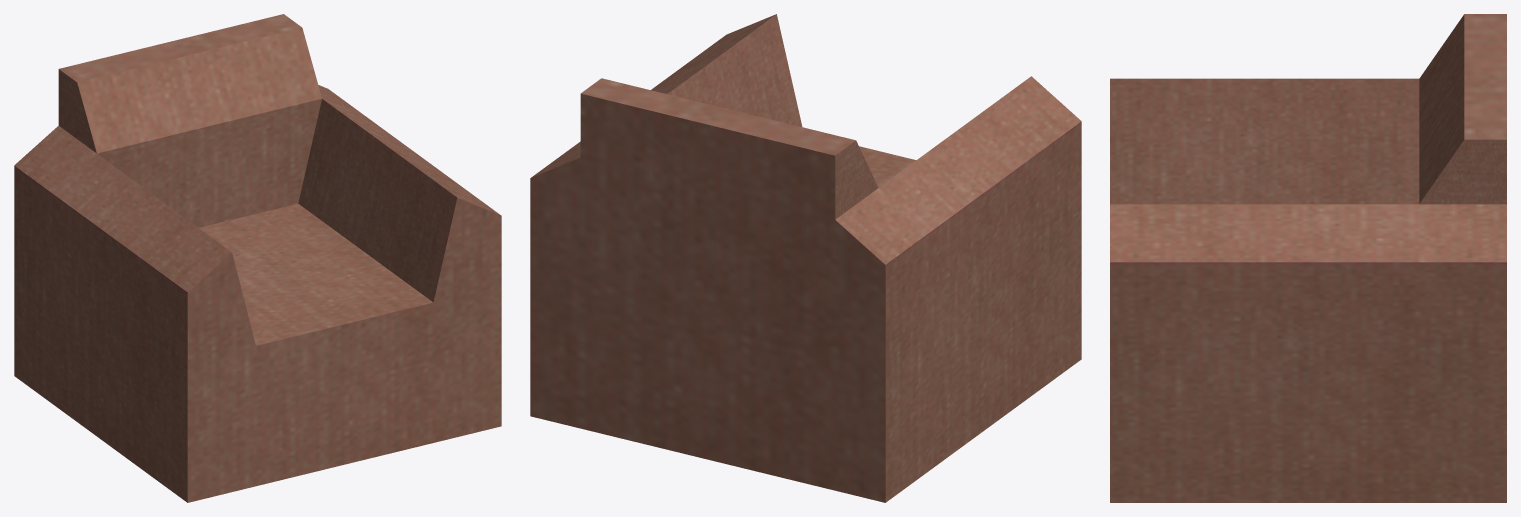
Rendered from ArmChair_3.fbx.
3 views of the same model, side by side, from view 1: azimuth 30°, elevation 25°; view 2: azimuth 150°, elevation 25°; view 3: azimuth 270°, elevation 25° (orthographic). The views are drawn at different scales.
Visible parts, largest first — view 1: Maya_File_Assets:TexturedAssetsCurrent:QuentonAssets02:Singl; view 2: Maya_File_Assets:TexturedAssetsCurrent:QuentonAssets02:Singl; view 3: Maya_File_Assets:TexturedAssetsCurrent:QuentonAssets02:Singl.
Boxes of the visible parts, x1=… form: Maya_File_Assets:TexturedAssetsCurrent:QuentonAssets02:Singl: x1=14, y1=14, x2=501, y2=502; Maya_File_Assets:TexturedAssetsCurrent:QuentonAssets02:Singl: x1=530, y1=14, x2=1081, y2=502; Maya_File_Assets:TexturedAssetsCurrent:QuentonAssets02:Singl: x1=1110, y1=14, x2=1506, y2=502.
Bounding box in the file's own units: 1.35 × 1.22 × 1.29.
